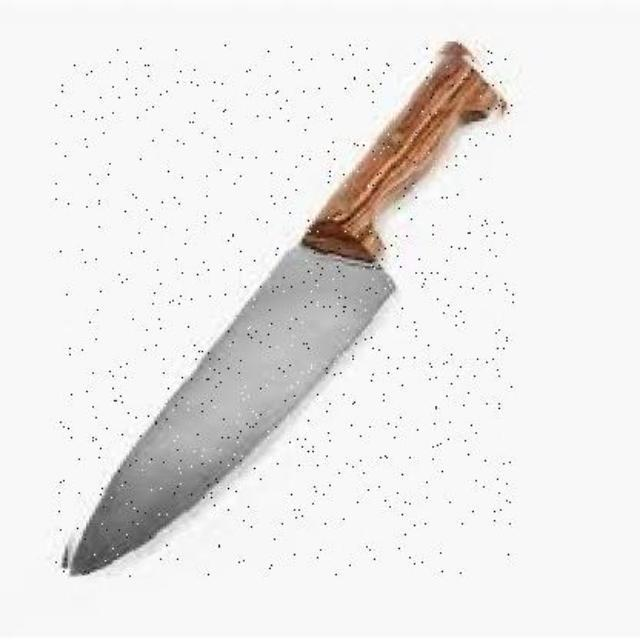Knife: (56, 44, 514, 576)
